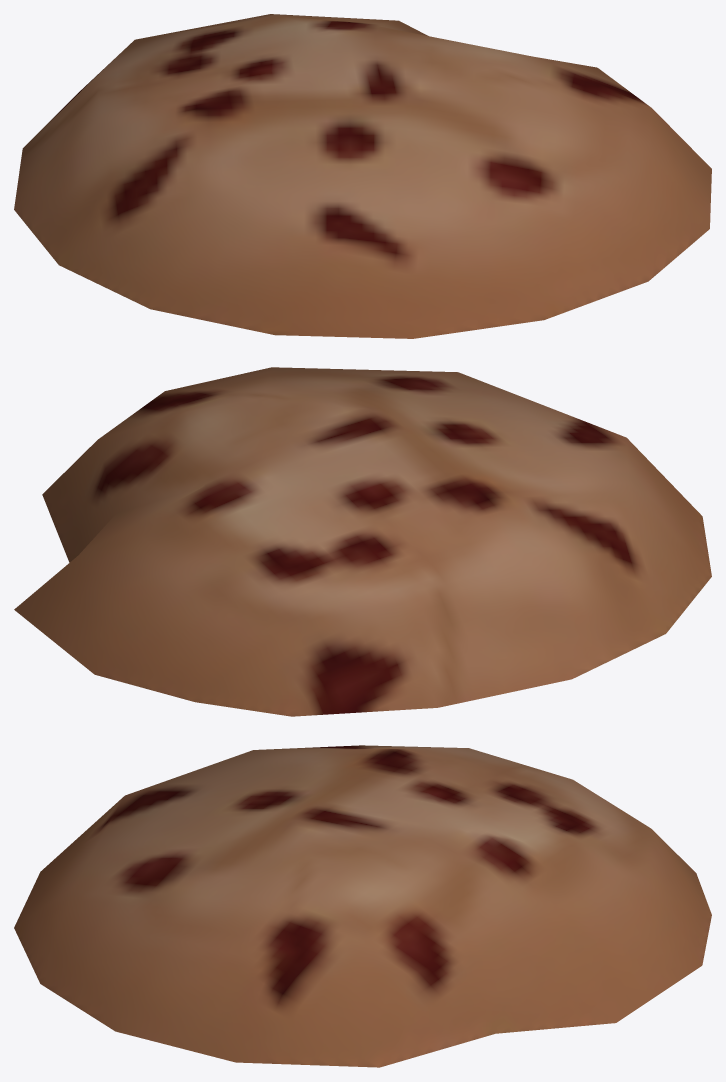
The model's file is cookie.glb.
3 renders of one model, top to bottom at view 1: azimuth 30°, elevation 25°; view 2: azimuth 150°, elevation 25°; view 3: azimuth 270°, elevation 25°, orthographic. The views are drawn at different scales.
Visible parts, largest first — view 1: geometry_0; view 2: geometry_0; view 3: geometry_0.
Part boxes in pixels (x1,y1,x2,y2): geometry_0: [14, 14, 711, 338]; geometry_0: [14, 367, 711, 716]; geometry_0: [14, 745, 711, 1067].
Bounding box in the file's own units: 0.0985 × 0.02 × 0.1025.
Materials: 1 (1 with a texture image).
